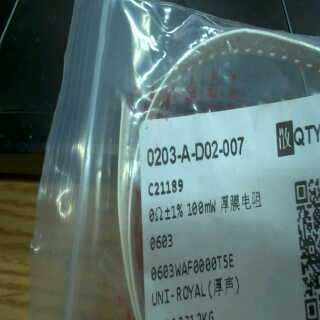0R: (145, 196, 218, 254)
